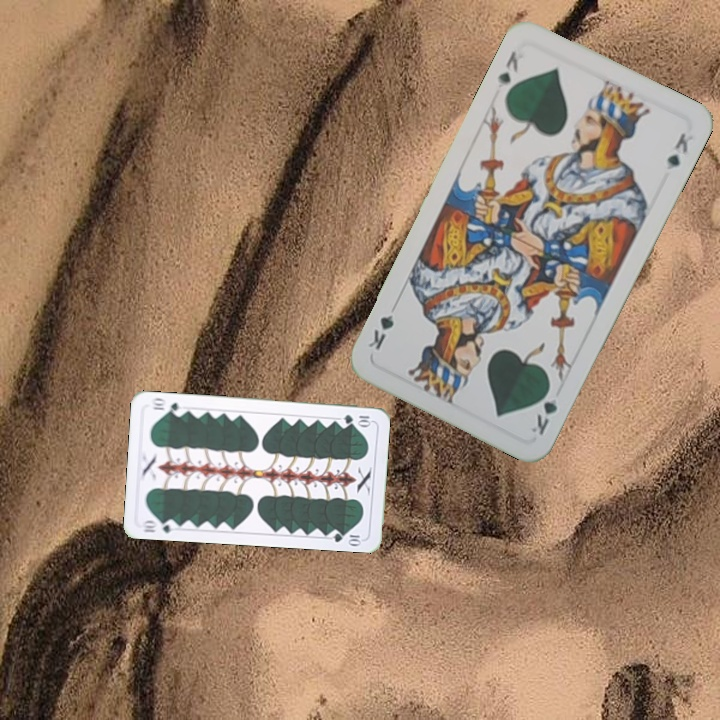G10: (138, 516, 179, 535), (340, 411, 374, 427)
GK: (527, 381, 560, 438), (493, 47, 521, 88)
